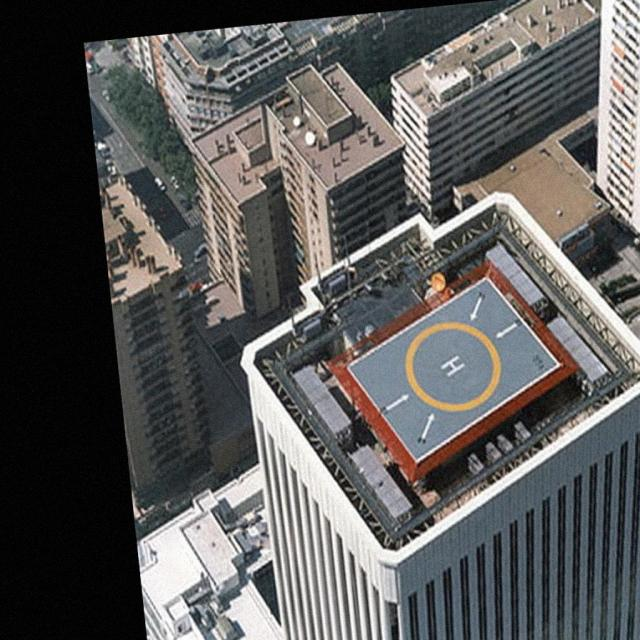helipad: (400, 318, 506, 416)
